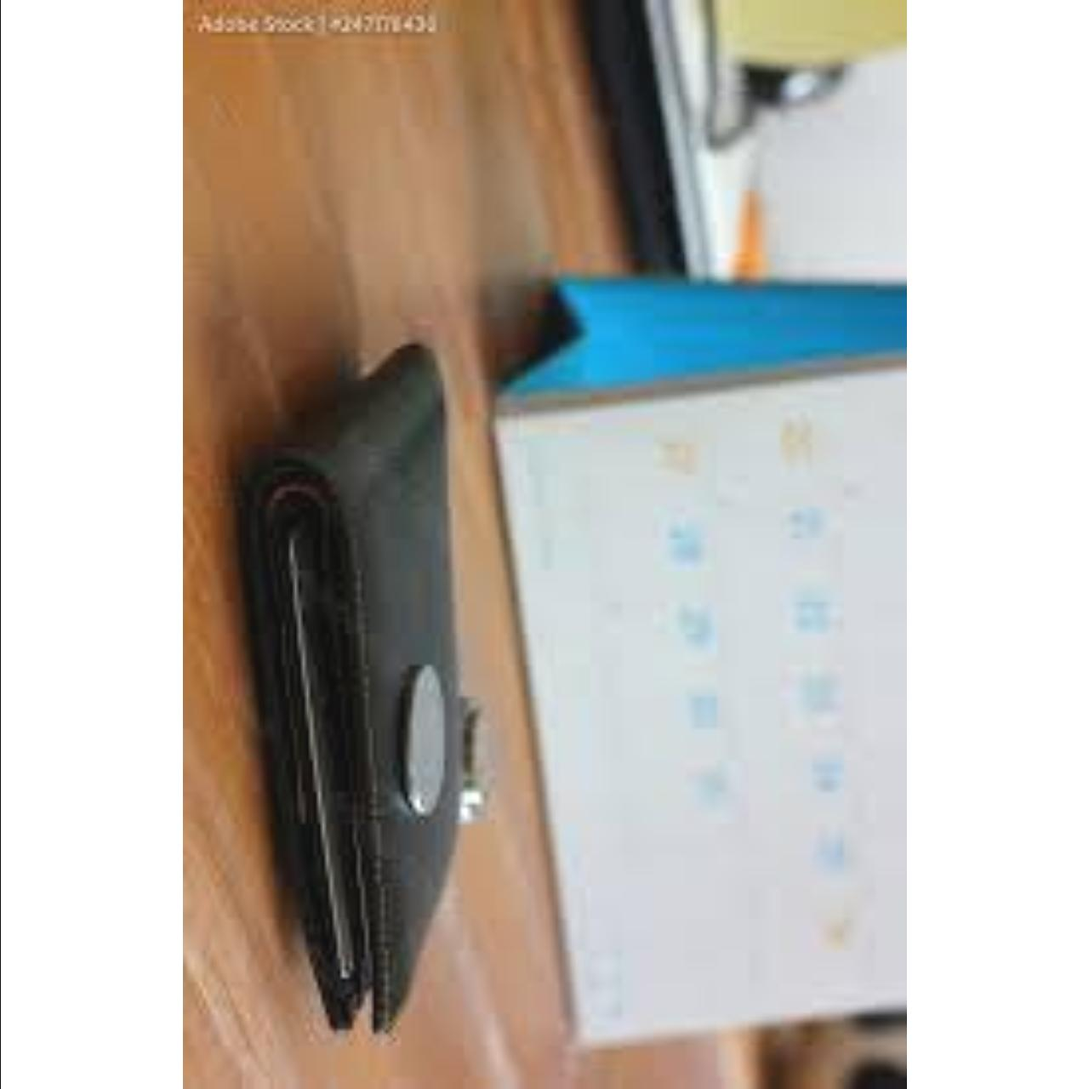wallet: (246, 329, 511, 1089)
